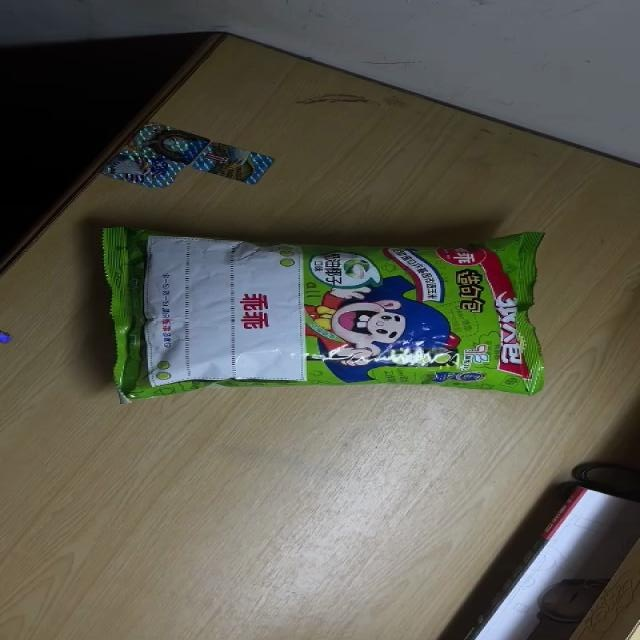Good-Luck: (100, 226, 546, 404)
